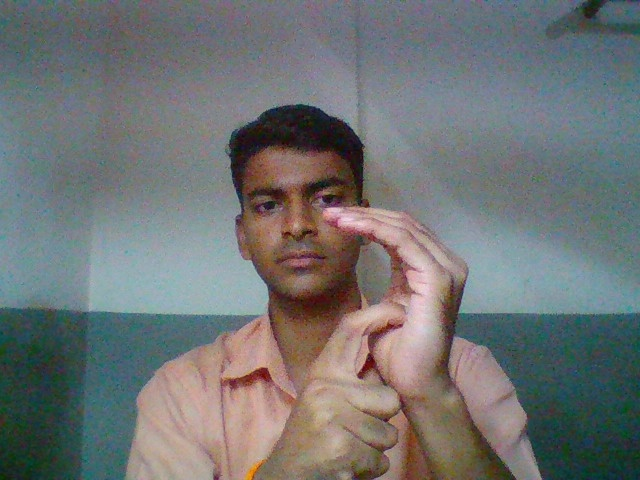G: (254, 201, 497, 480)
